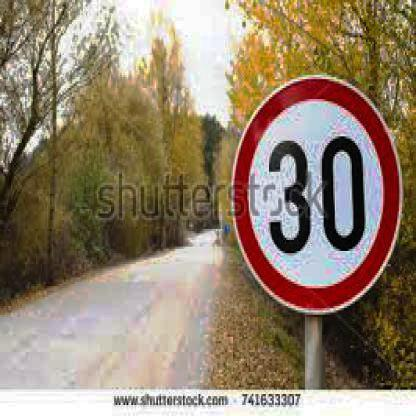Speed Limit -30-: (226, 74, 402, 315)
